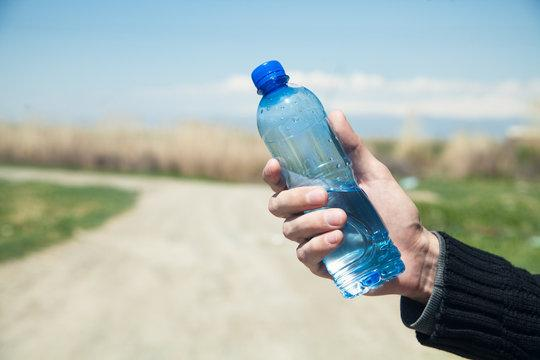plastic_bottle: (247, 57, 408, 298)
